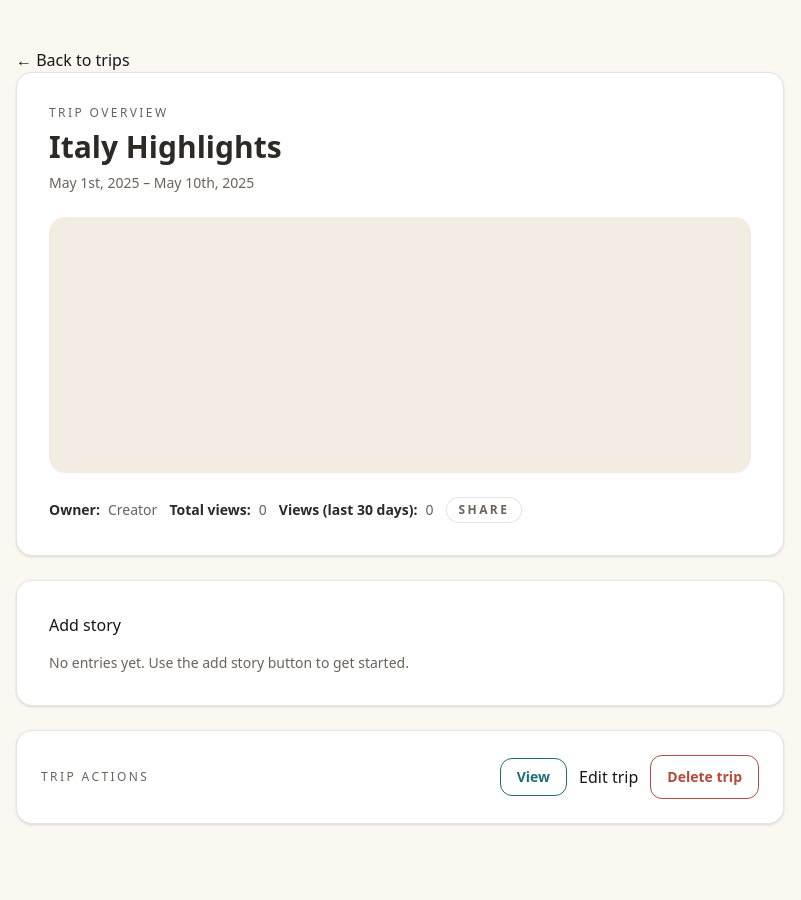
Test: TripDetail share panel › lists invited viewers and sends an invite
Click the button with aria-label "share trip" at x=484, y=510, box [446,497,522,523]
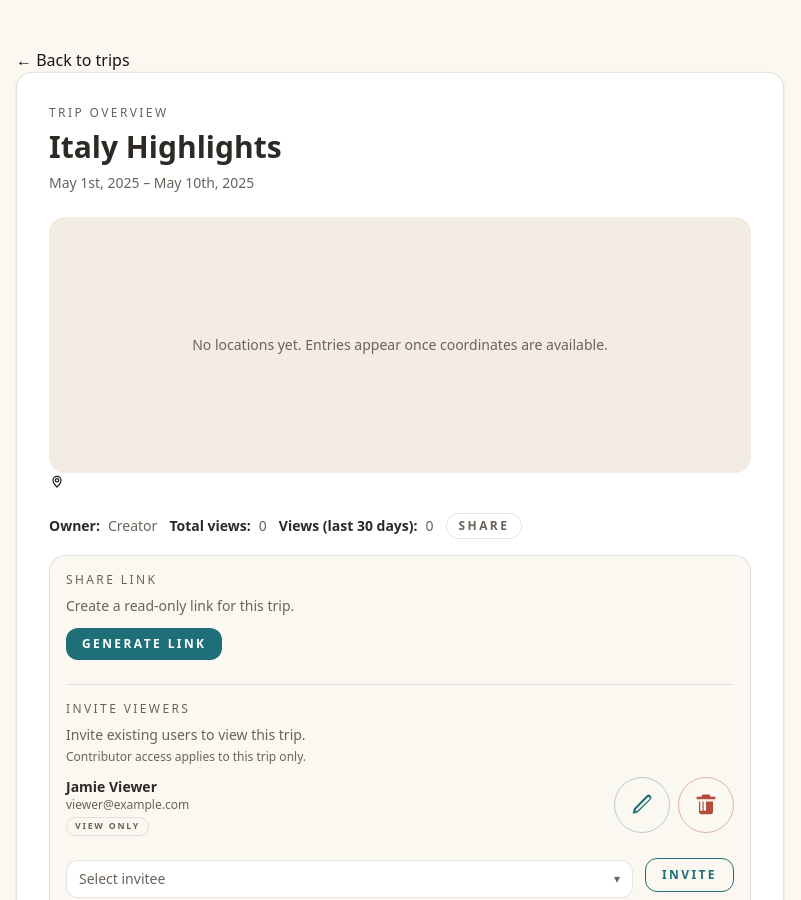
Result: the text "Jamie Viewer" is shown at [66,777,157,796]
Result: the text "viewer@example.com" is shown at [66,797,189,813]
Click the button with aria-label "Invite viewer selector" at x=122, y=878, box [66,860,633,898]
(page scrolled)
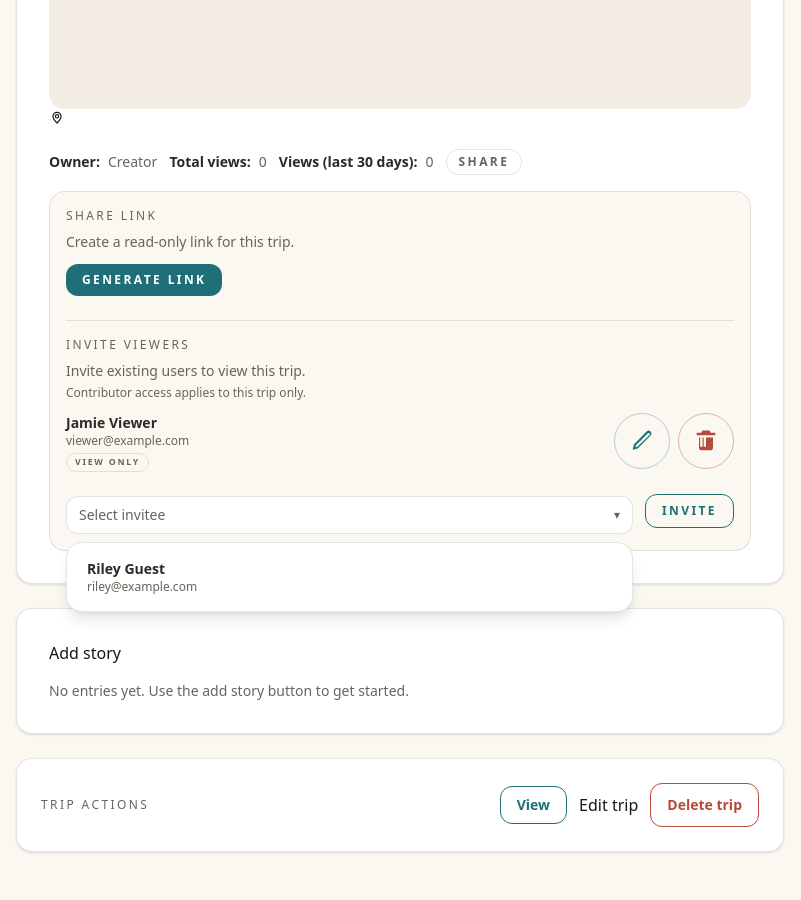
Click the option "Riley Guest riley@example.com" at x=126, y=568, box [75,551,624,603]
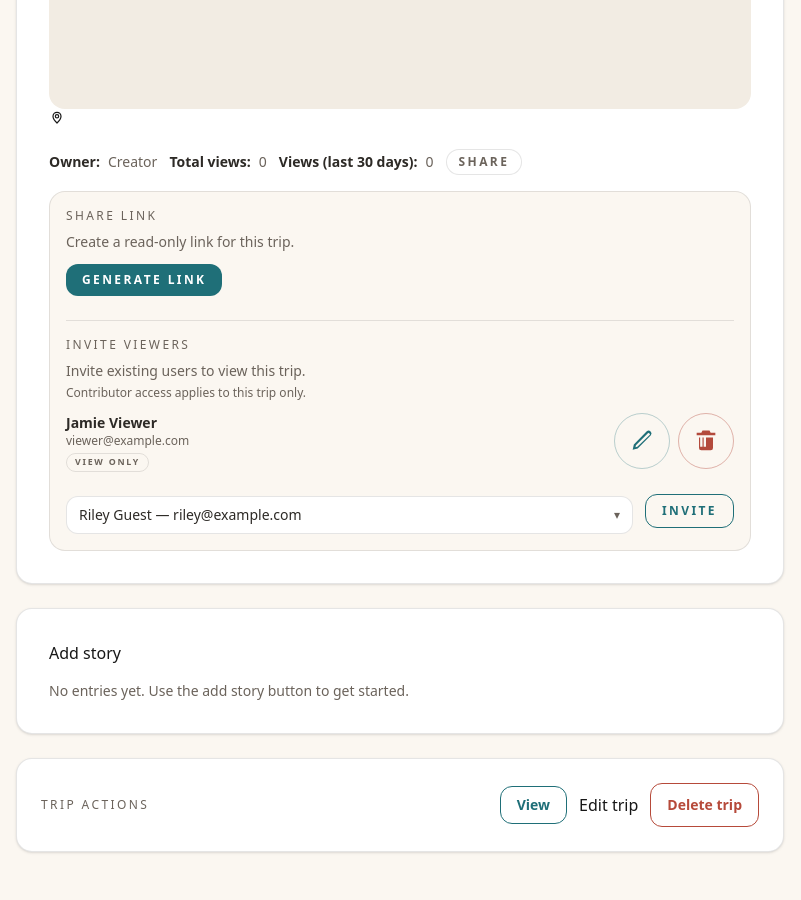
Click the button "Invite" at x=690, y=511, box [645,494,734,528]
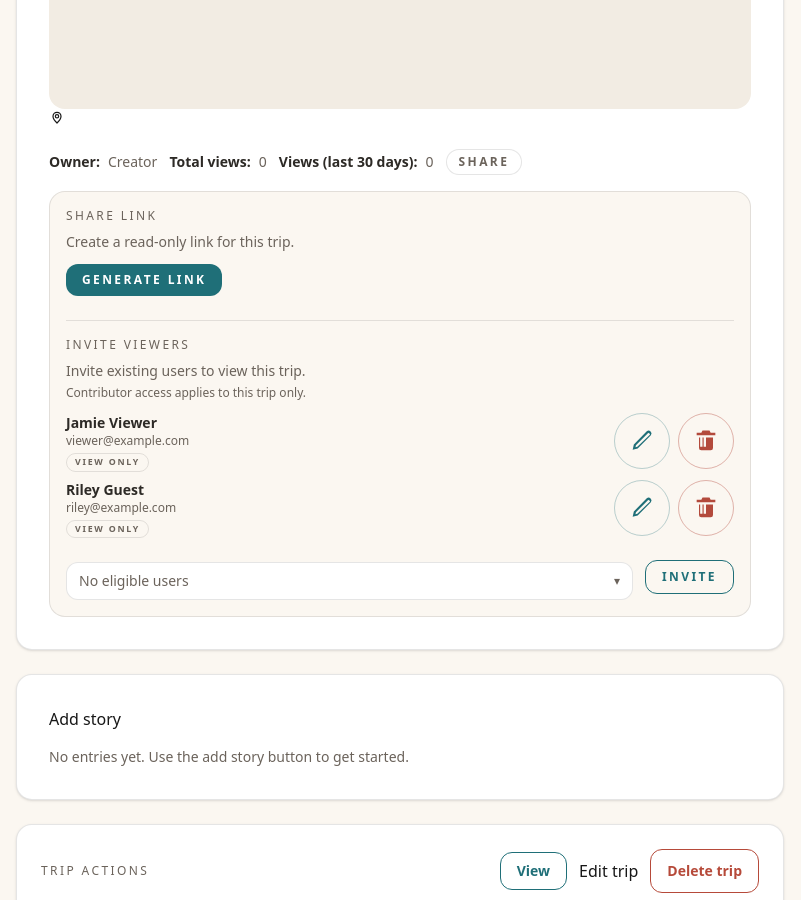
Result: the text "Riley Guest" is shown at [66,480,144,499]
Result: the text "riley@example.com" is shown at [66,500,176,516]
Result: the button with aria-label "Invite viewer selector" shows "No eligible users" at [66,562,633,600]
